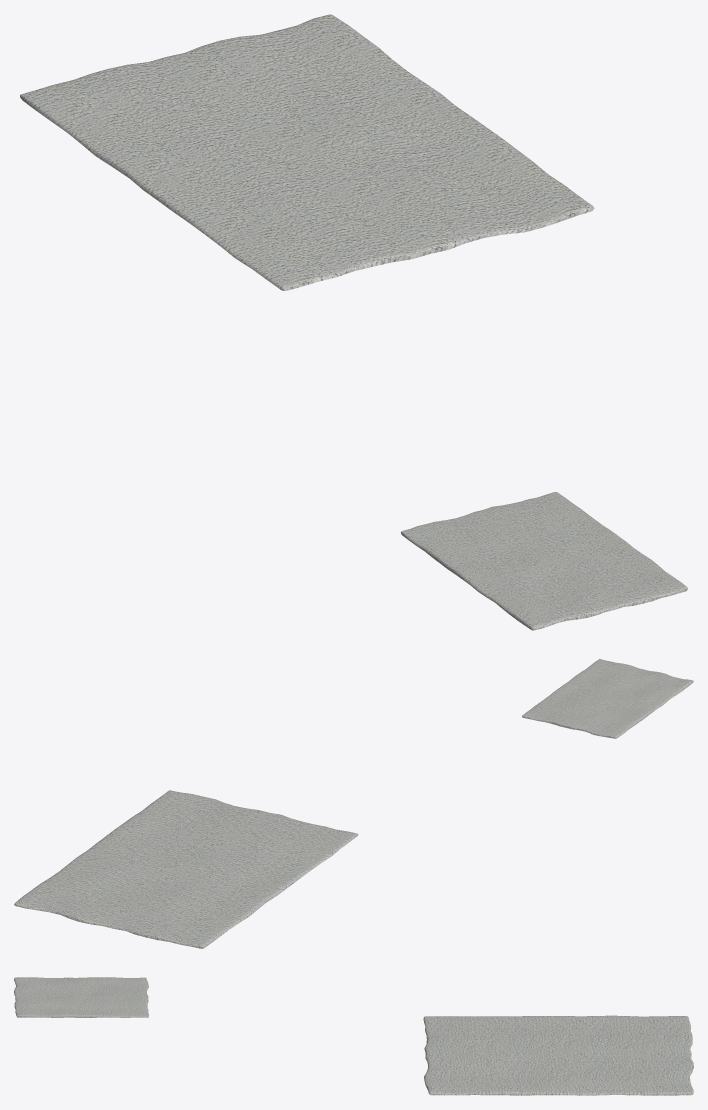
Rendered from Carpet.obj.
3 views of the same model, one above another, from view 1: azimuth 30°, elevation 25°; view 2: azimuth 150°, elevation 25°; view 3: azimuth 270°, elevation 25° (orthographic). The views are drawn at different scales.
Visible parts, largest first — view 1: Carpet_7_SM_Carpet; view 2: Carpet_7_SM_Carpet; view 3: Carpet_7_SM_Carpet.
Boxes of the visible parts, <box> form: Carpet_7_SM_Carpet: <box>20,14,687,630</box>; Carpet_7_SM_Carpet: <box>14,659,693,948</box>; Carpet_7_SM_Carpet: <box>14,977,693,1095</box>.
Bounding box in the file's own units: 2.74 × 0.0338 × 6.7.
